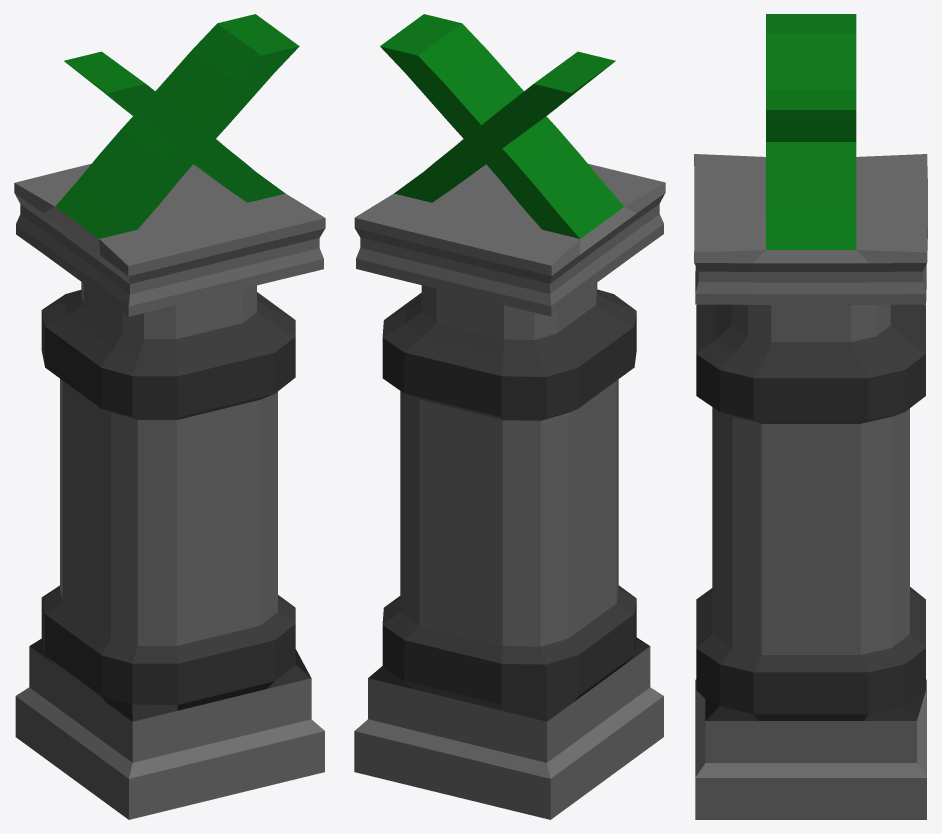
File: MultiplikationPillar.FBX
The picture shows the model from 3 angles, left to right: view 1: azimuth 30°, elevation 25°; view 2: azimuth 150°, elevation 25°; view 3: azimuth 270°, elevation 25°; orthographic projection. The views are drawn at different scales.
Visible parts, largest first — view 1: Box001; view 2: Box001; view 3: Box001.
Boxes of the visible parts, x1,y1,x2,y2 form: Box001: (14,14,325,819); Box001: (354,14,665,819); Box001: (694,14,927,819).
Bounding box in the file's own units: 21.05 × 68 × 20.15.
